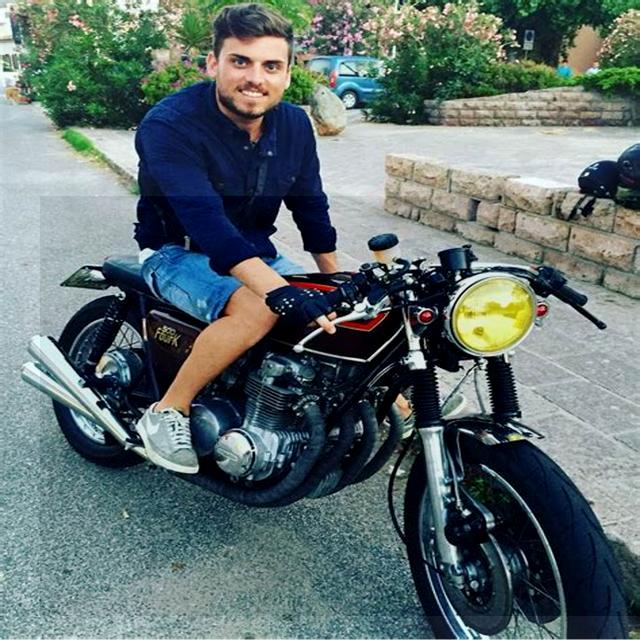Bike: (40, 196, 640, 616)
